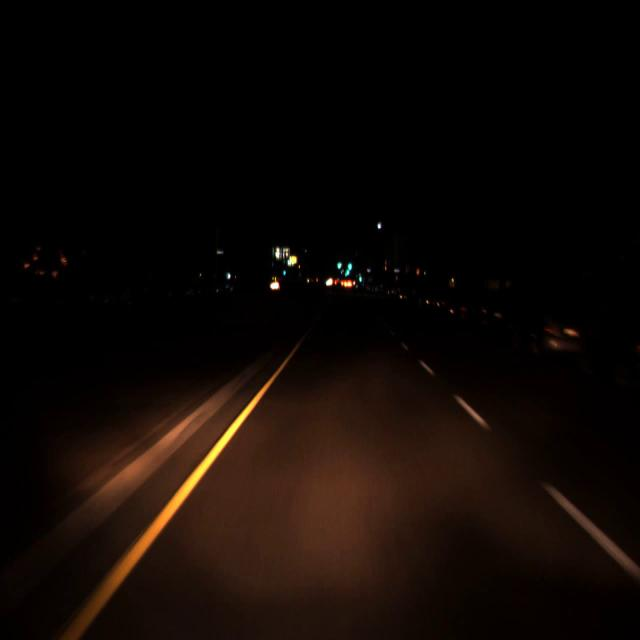go: (343, 260, 351, 280), (346, 255, 352, 272), (336, 256, 341, 268), (358, 272, 362, 282)
go traffic light: (343, 260, 351, 280), (346, 255, 352, 272), (336, 256, 341, 268), (358, 272, 362, 282)
